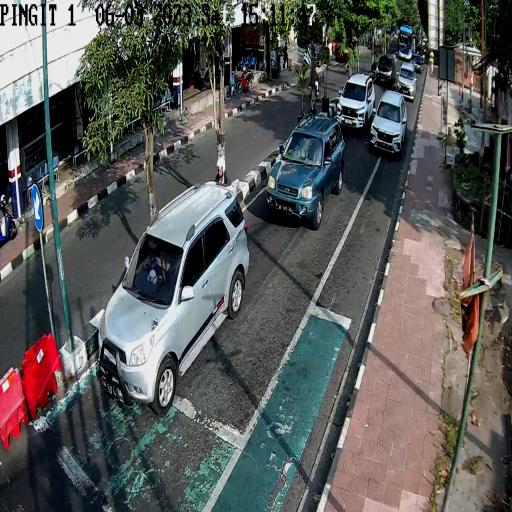mobil: (94, 178, 250, 412), (266, 110, 344, 232), (371, 89, 408, 160), (336, 69, 376, 134), (396, 60, 418, 102), (376, 52, 396, 88)
